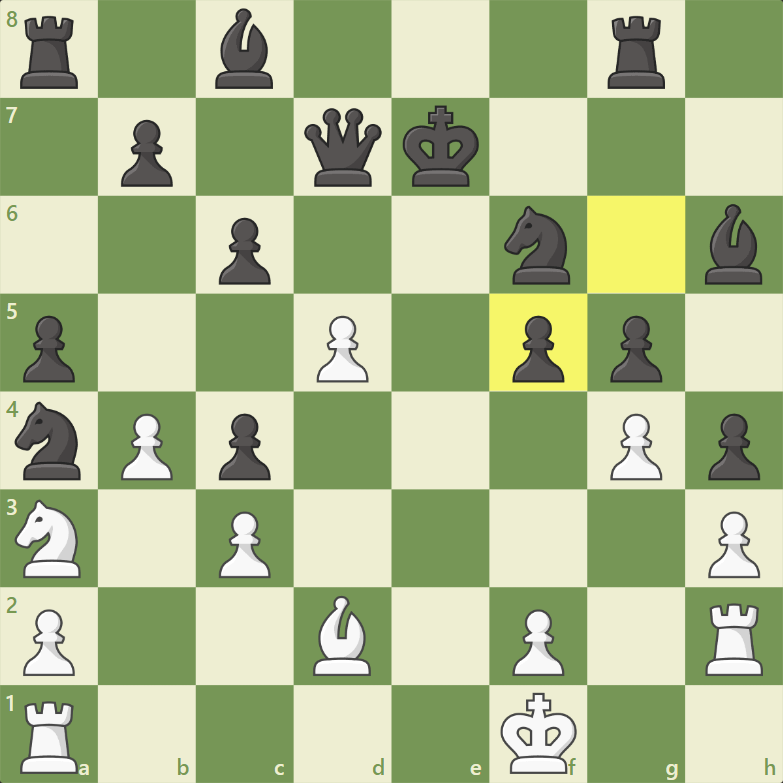B: (311, 594, 375, 679)
K: (497, 690, 580, 779)
N: (12, 498, 84, 581)
P: (508, 607, 570, 679), (21, 605, 78, 679), (216, 506, 273, 580), (705, 508, 762, 582), (608, 410, 665, 484), (314, 312, 371, 386), (118, 410, 175, 484)
R: (702, 602, 768, 679), (18, 700, 81, 777)
b: (701, 199, 767, 289), (211, 5, 277, 93)
k: (401, 104, 480, 189)
n: (502, 204, 573, 288), (13, 399, 83, 484)
p: (18, 314, 77, 386), (607, 314, 665, 386), (509, 313, 566, 386), (216, 411, 272, 484), (217, 215, 273, 288), (119, 117, 175, 190), (707, 412, 761, 483)
q: (301, 104, 385, 192)
r: (604, 13, 669, 94), (17, 13, 81, 93)
